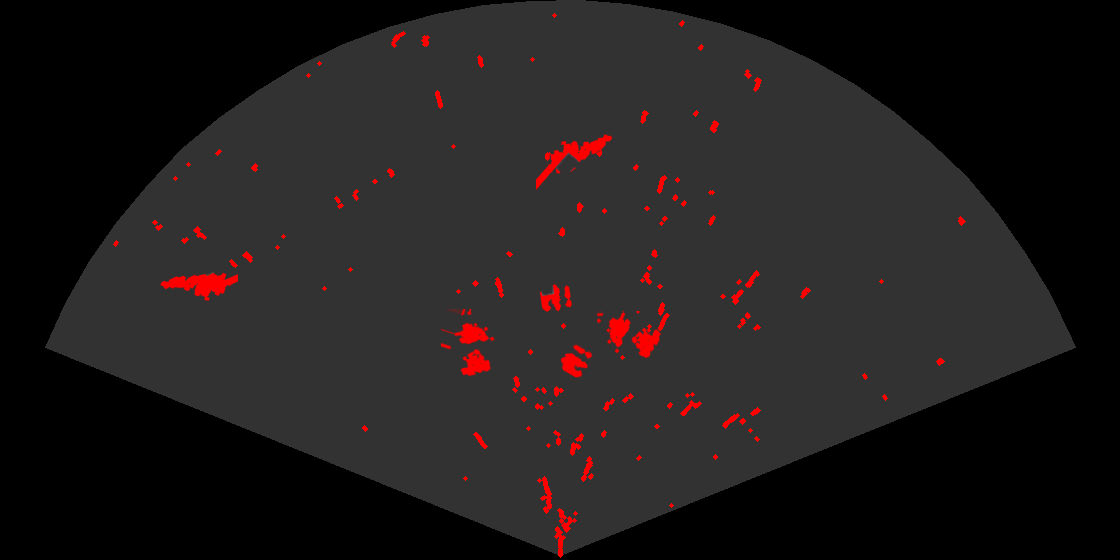ball: (559, 343, 594, 379), (538, 282, 573, 314)
cage: (441, 309, 496, 378), (597, 311, 663, 360)
frogman: (536, 133, 614, 190), (159, 271, 238, 302)
